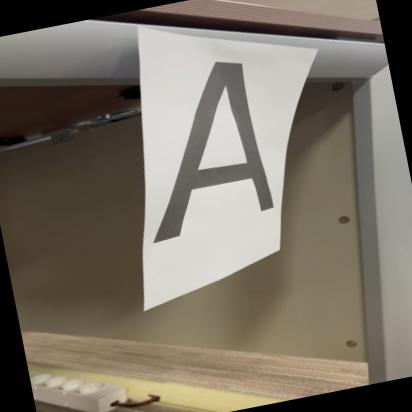seat: (98, 50, 298, 260)
